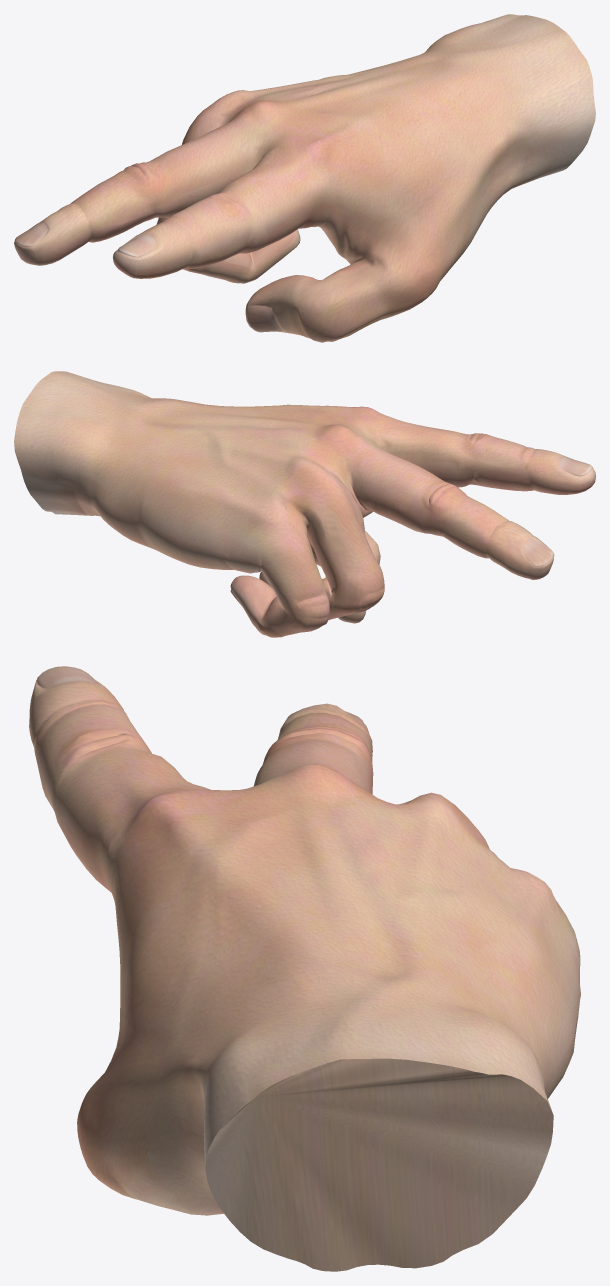
The model's file is hand_32.obj.
3 views of the same model, one above another, from view 1: azimuth 30°, elevation 25°; view 2: azimuth 150°, elevation 25°; view 3: azimuth 270°, elevation 25° (orthographic). The views are drawn at different scales.
Parts seen in each view (by area): view 1: Figure_2; view 2: Figure_2; view 3: Figure_2.
Boxes of the visible parts, x1,y1,x2,y2 form: Figure_2: (14, 14, 595, 342); Figure_2: (14, 371, 595, 637); Figure_2: (29, 666, 580, 1271).
Bounding box in the file's own units: 0.8946 × 0.342 × 0.4283.
Materials: 2 (2 with a texture image).
